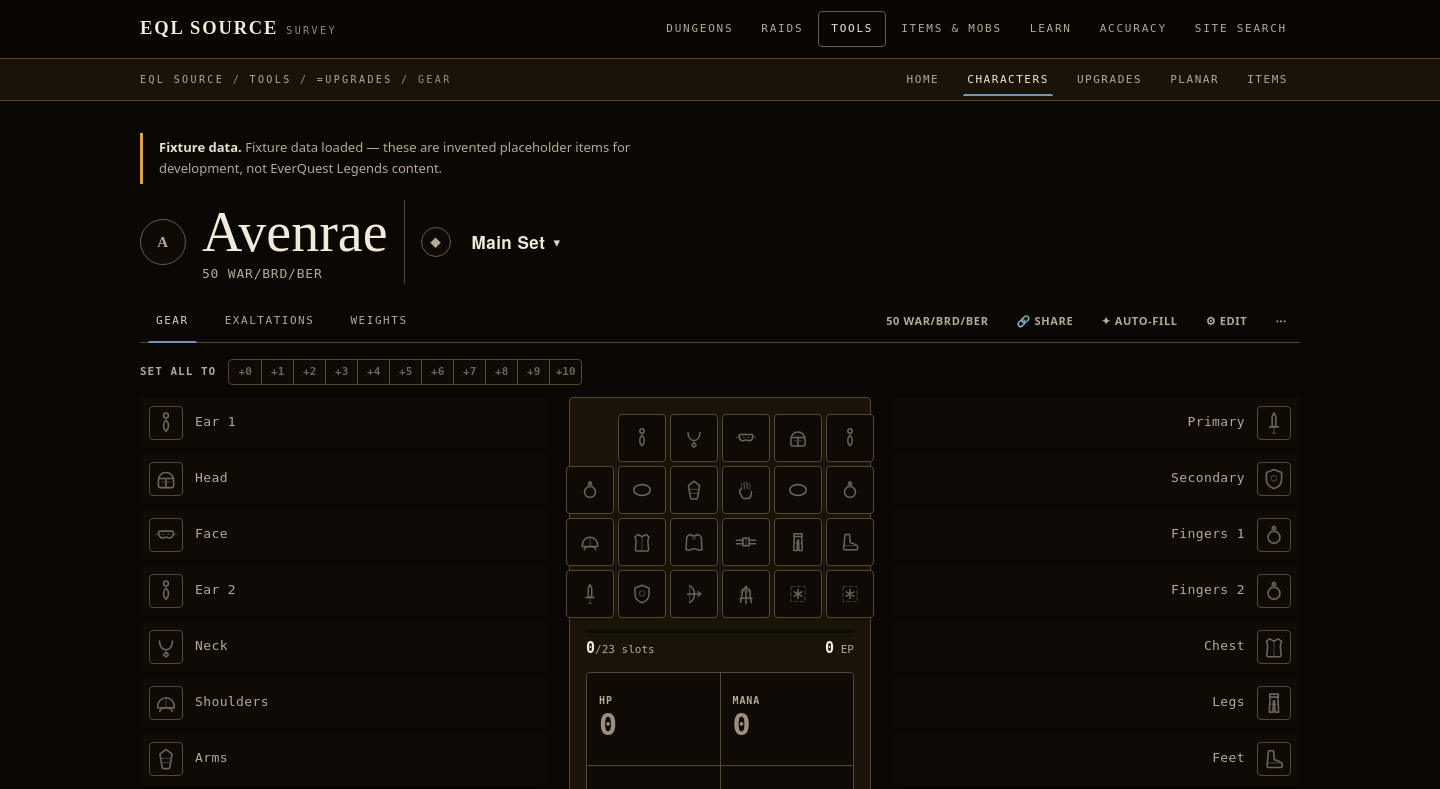
Test: the preview tier re-sorting the list › genuinely inverts the ranking, so the rest of this file is testing something
The image size is (1440, 789).
Later steps or results of the test are not shown.
What coordinates should you click on to do the following:
click the button "Head"
I would click on:
 (166, 478)
Its box is 141,454 -> 536,504.
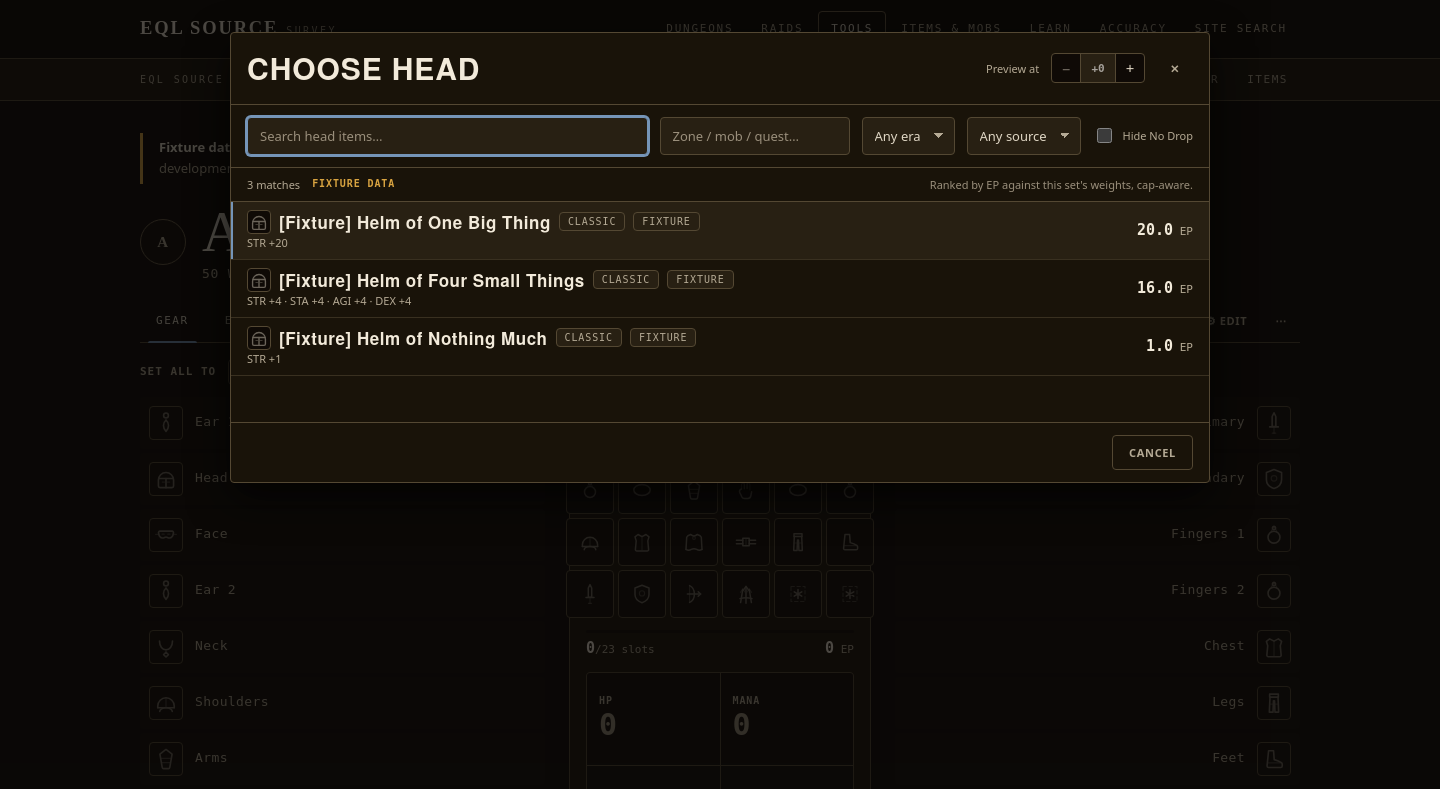
Expected: the button named "Raise ranking preview upgrade level" is shown
What coordinates should you click on to do the following:
click the button named "Raise ranking preview upgrade level"
I would click on:
 (1130, 68)
Its box is 1116,54 -> 1144,82.
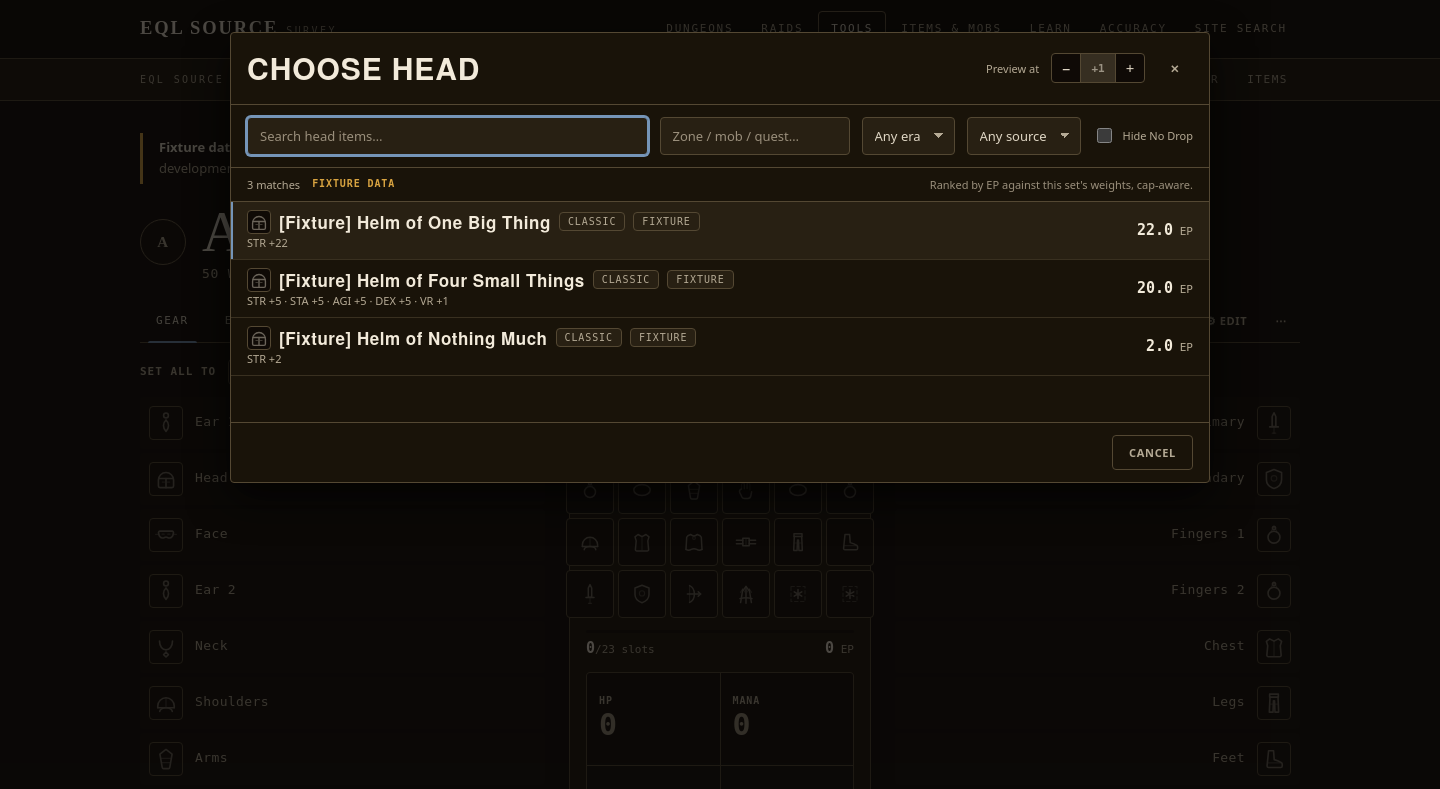
Expected: the button named "Raise ranking preview upgrade level" is shown
What coordinates should you click on to do the following:
click the button named "Raise ranking preview upgrade level"
I would click on:
 (1130, 68)
Its box is 1116,54 -> 1144,82.
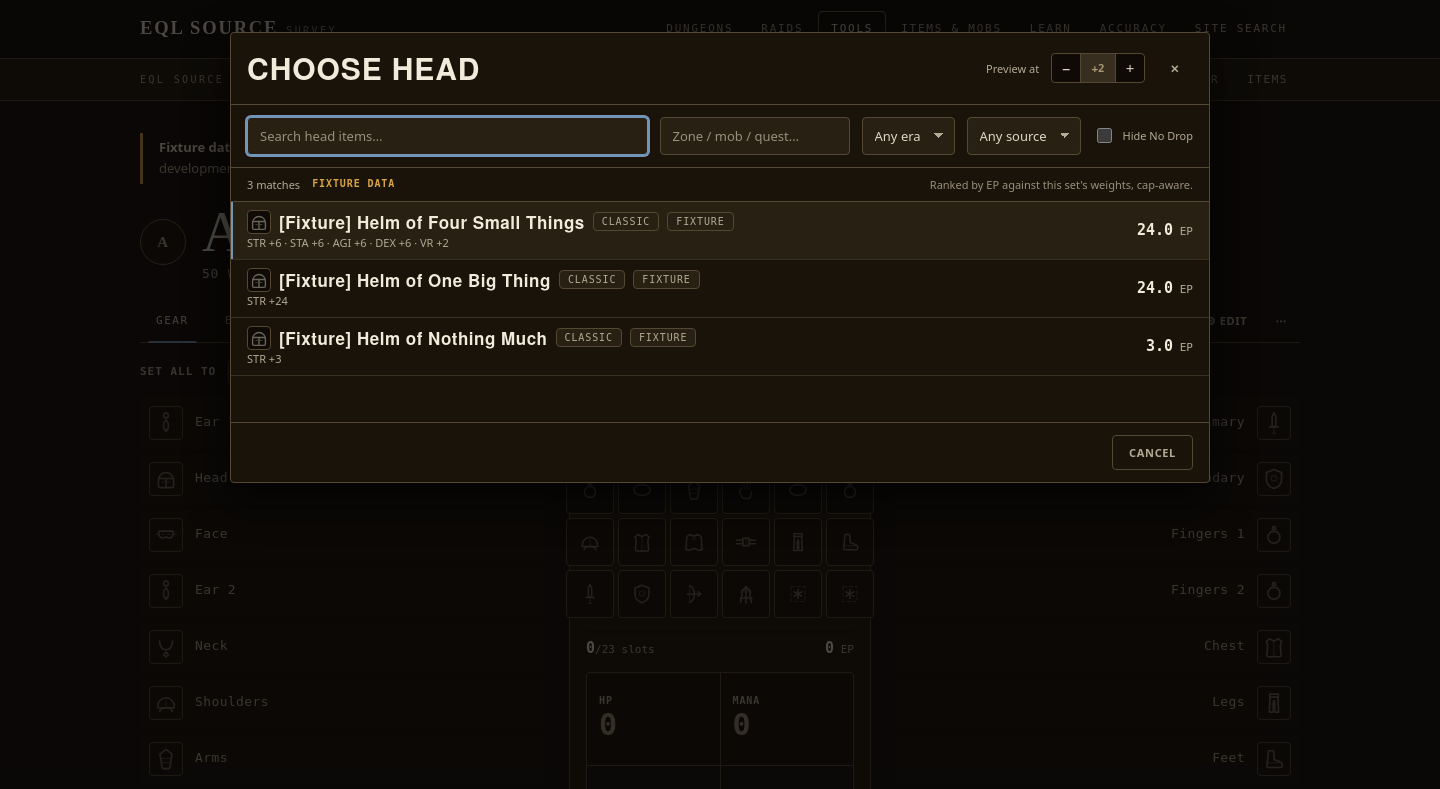
Expected: the button named "Raise ranking preview upgrade level" is shown
What coordinates should you click on to do the following:
click the button named "Raise ranking preview upgrade level"
I would click on:
 (1130, 68)
Its box is 1116,54 -> 1144,82.
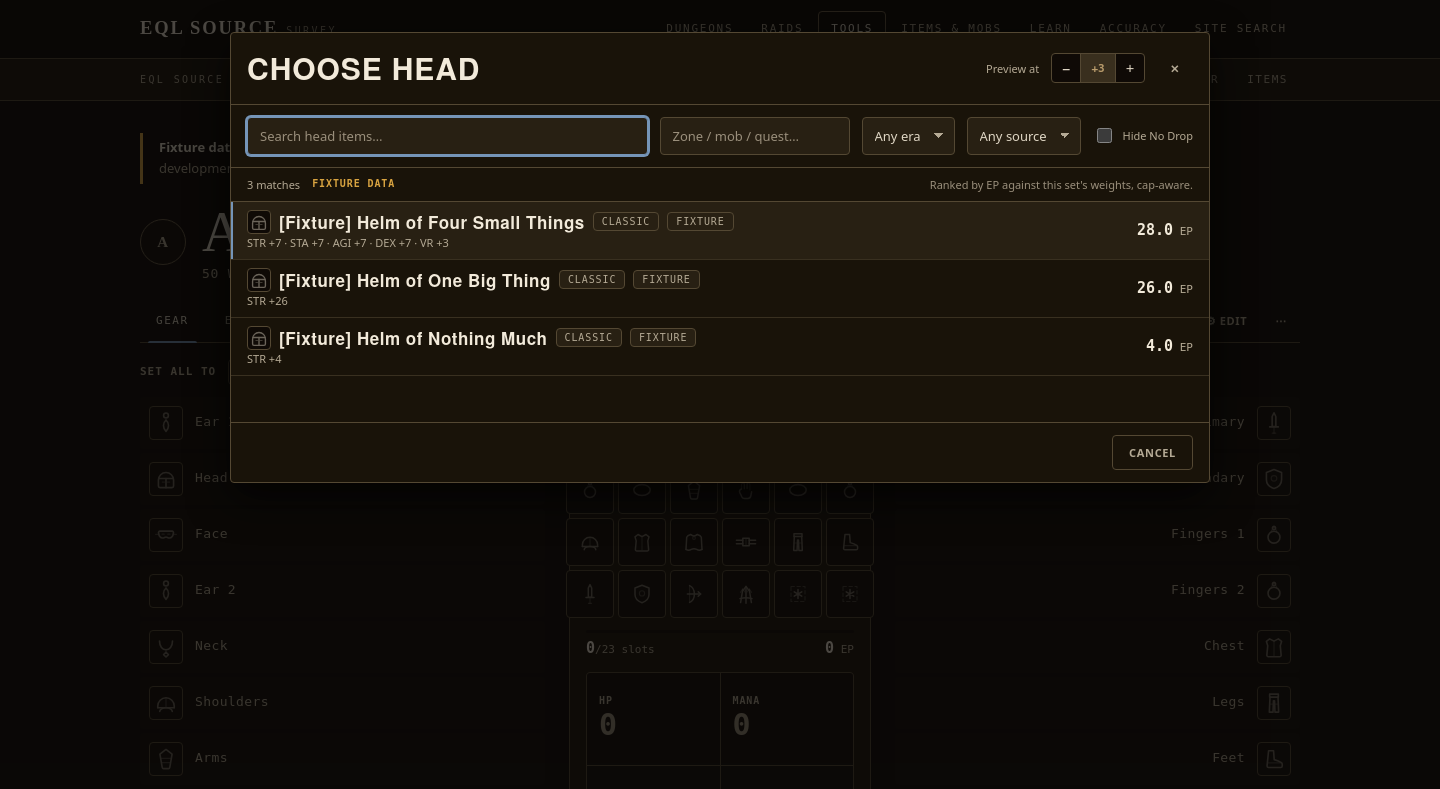
Expected: the button named "Raise ranking preview upgrade level" is shown
What coordinates should you click on to do the following:
click the button named "Raise ranking preview upgrade level"
I would click on:
 (1130, 68)
Its box is 1116,54 -> 1144,82.
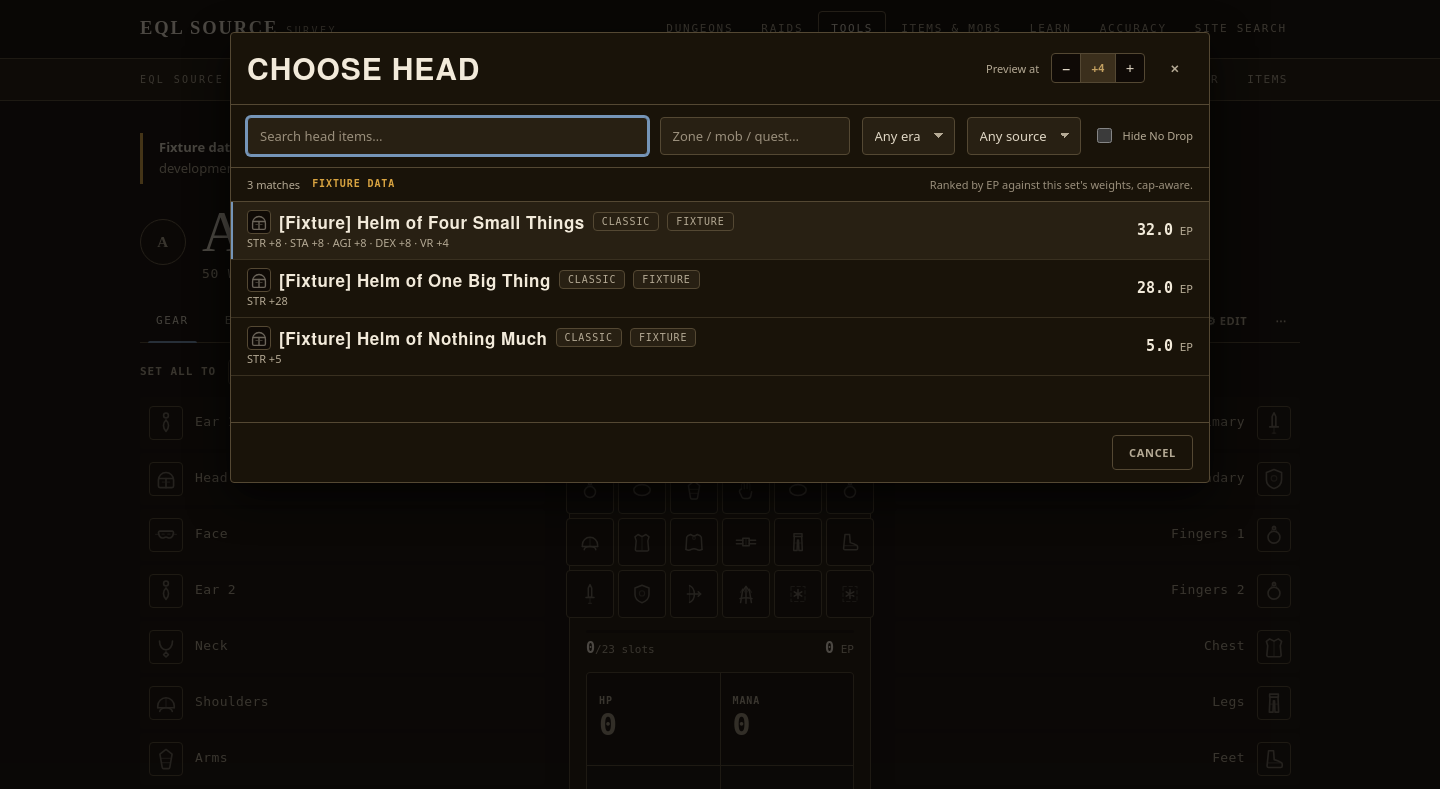
Expected: the button named "Raise ranking preview upgrade level" is shown, 1116,54 -> 1144,82
